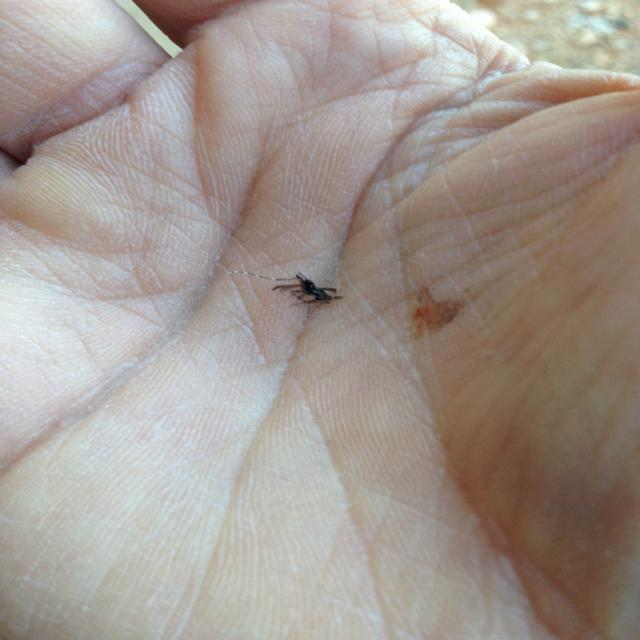albopictus: (225, 259, 348, 318)
